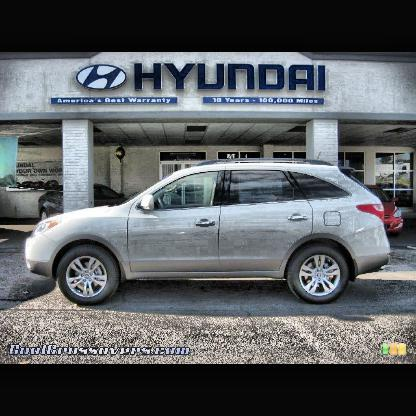Hyundai Veracruz SUV 2012: (25, 161, 394, 306)
